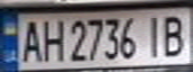2: (66, 16, 87, 63)
3: (103, 15, 124, 61)
6: (118, 14, 142, 61)
7: (84, 15, 106, 62)
A: (15, 16, 45, 63)
B: (157, 11, 190, 57)
H: (39, 16, 66, 63)
I: (139, 11, 169, 60)
